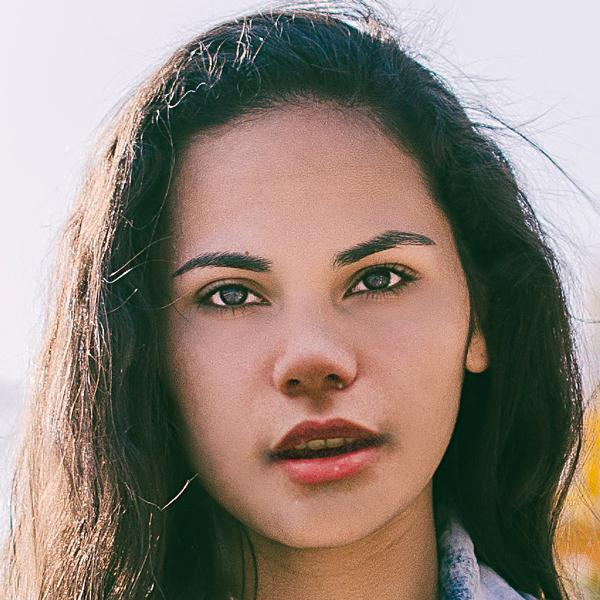Eyes: (329, 258, 429, 309), (184, 268, 278, 322)
